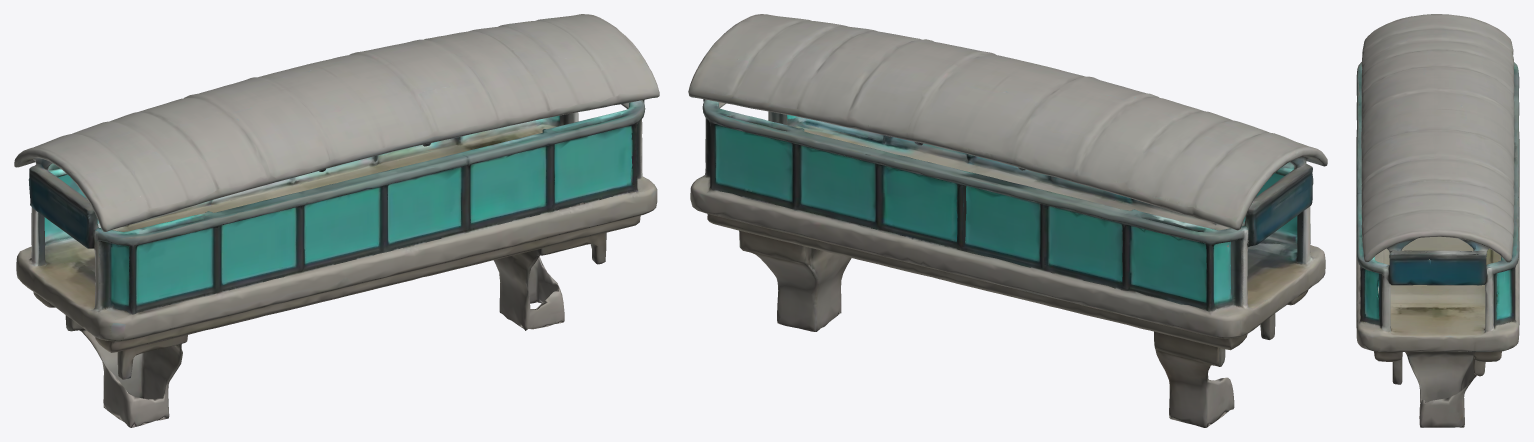
The model's file is bb_monorail_station.glb.
3 renders of one model, left to right at view 1: azimuth 30°, elevation 25°; view 2: azimuth 150°, elevation 25°; view 3: azimuth 270°, elevation 25°, orthographic. The views are drawn at different scales.
Bounding box in the file's own units: 1 × 0.4989 × 0.316.
Materials: 1 (1 with a texture image).
